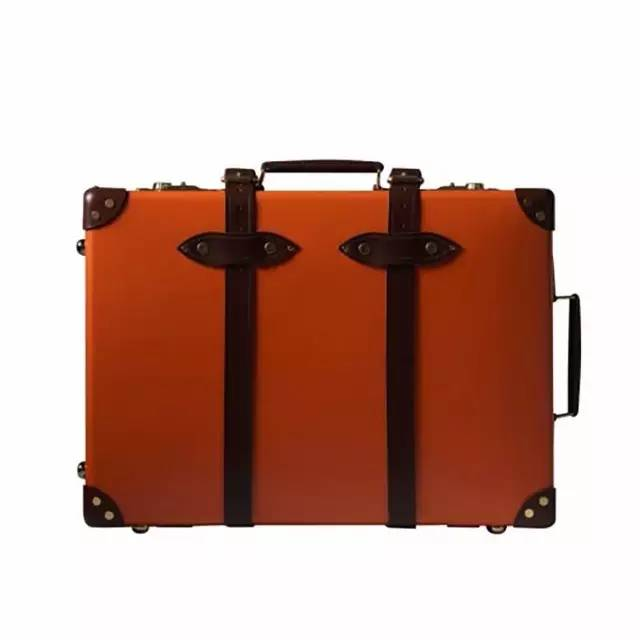suitcase: (74, 158, 583, 536)
